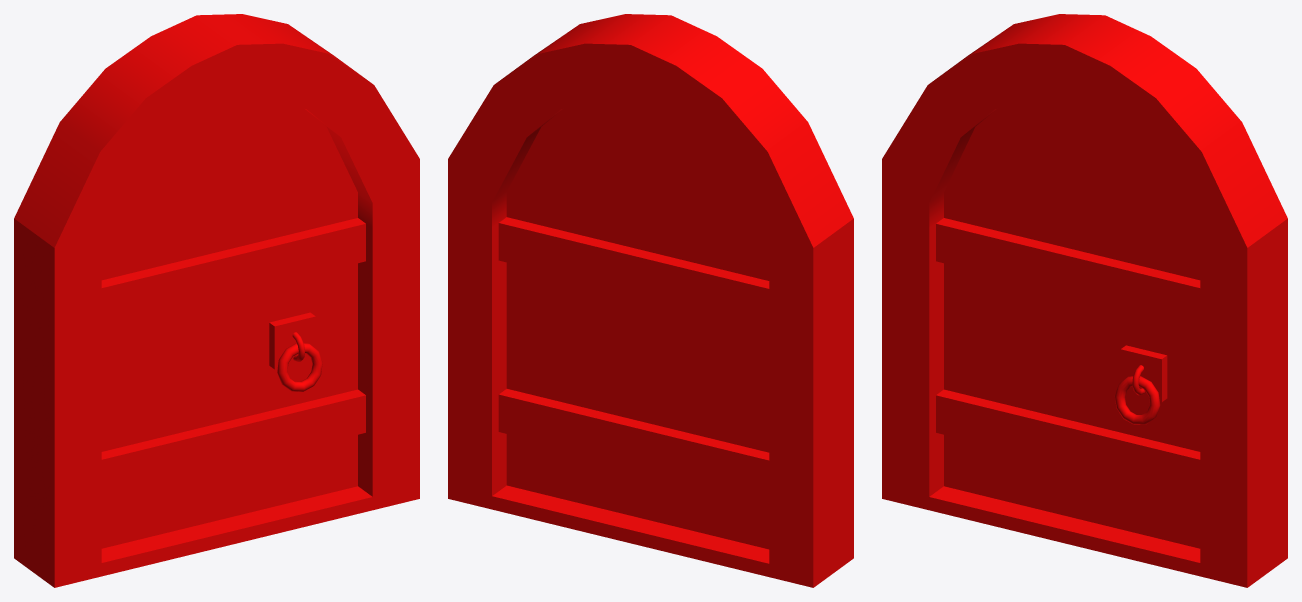
Rendered from m_shopdoorFix.fbx.
The picture shows the model from 3 angles, left to right: view 1: azimuth 30°, elevation 25°; view 2: azimuth 150°, elevation 25°; view 3: azimuth 330°, elevation 25°; orthographic projection.
Parts seen in each view (by area): view 1: m_shopdoor; view 2: m_shopdoor; view 3: m_shopdoor.
Boxes of the visible parts, box(x1,y1,x2,y2) form: m_shopdoor: box(14, 14, 419, 587); m_shopdoor: box(448, 14, 853, 587); m_shopdoor: box(882, 14, 1287, 587).
Size of the model in its own units: 225 by 293 by 43.17.
